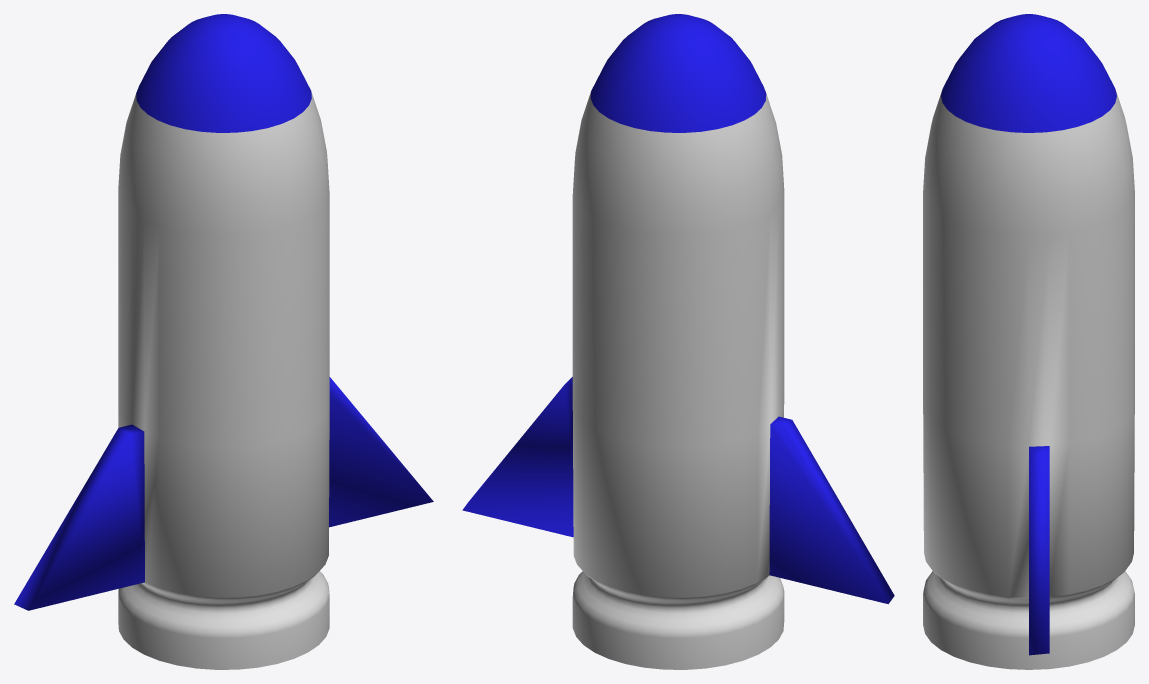
Rendered from MisslePowerUp.fbx.
3 renders of one model, left to right at view 1: azimuth 30°, elevation 25°; view 2: azimuth 150°, elevation 25°; view 3: azimuth 270°, elevation 25°, orthographic.
Parts seen in each view (by area): view 1: Sphere; view 2: Sphere; view 3: Sphere.
Boxes of the visible parts, left/top/right/bottom form: Sphere: left=14, top=14, right=433, bottom=669; Sphere: left=462, top=14, right=894, bottom=669; Sphere: left=923, top=14, right=1134, bottom=669.
Size of the model in its own units: 244 by 336 by 107.
